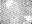person: (6, 2, 14, 8), (26, 16, 32, 22)
